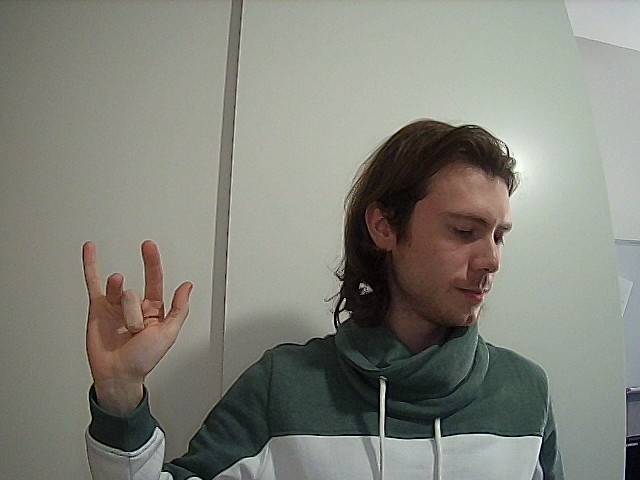reset: (71, 233, 200, 395)
